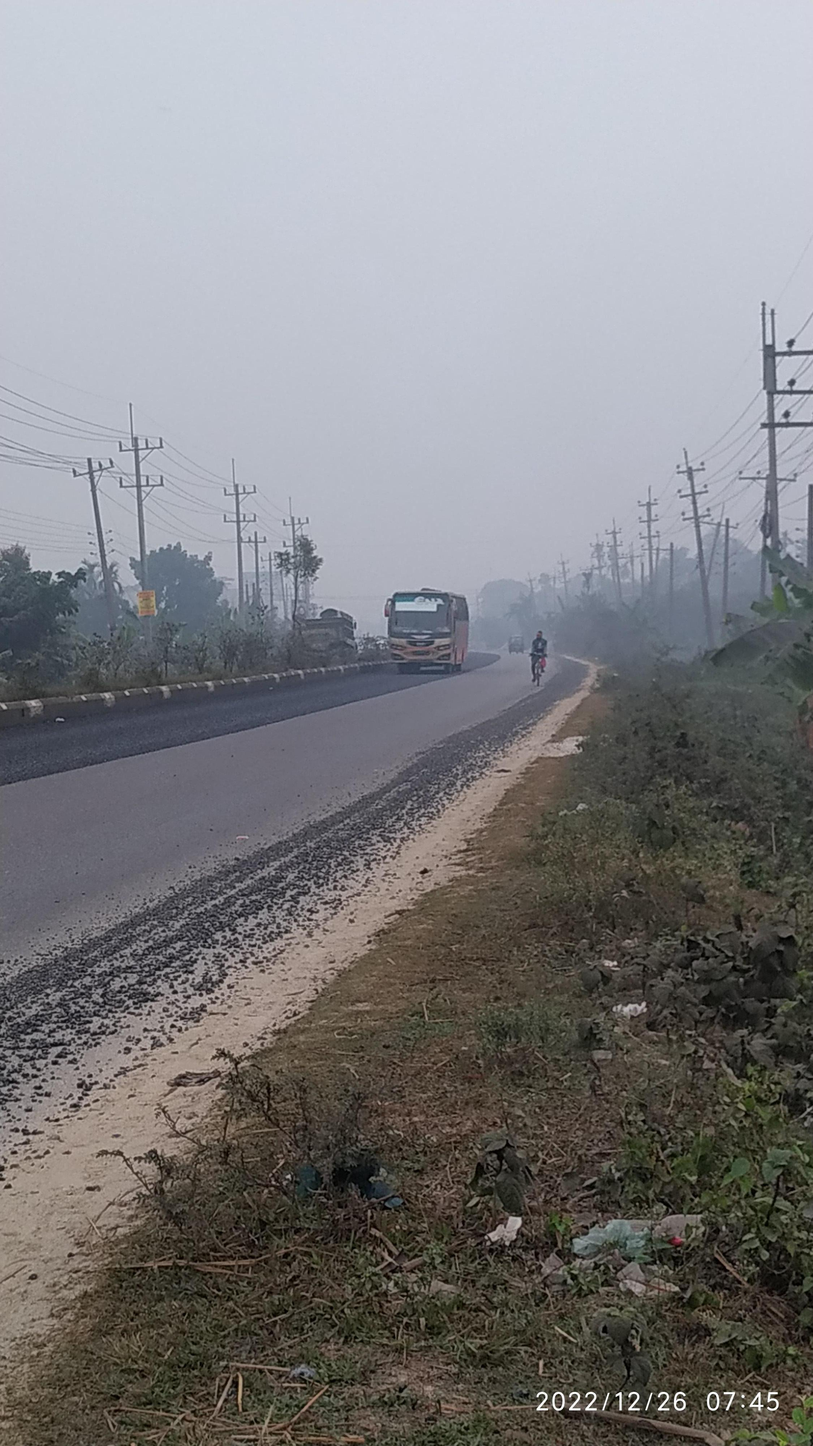Bus: (369, 580, 497, 684)
Truck: (274, 590, 372, 687)
